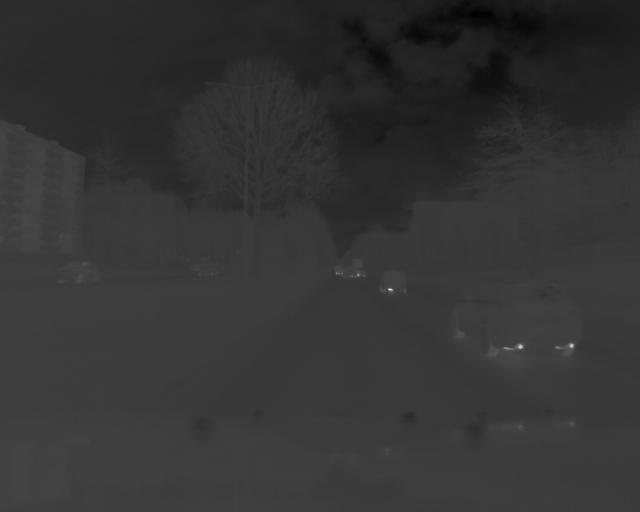car: (451, 279, 582, 361), (53, 260, 100, 289), (381, 267, 408, 298)
